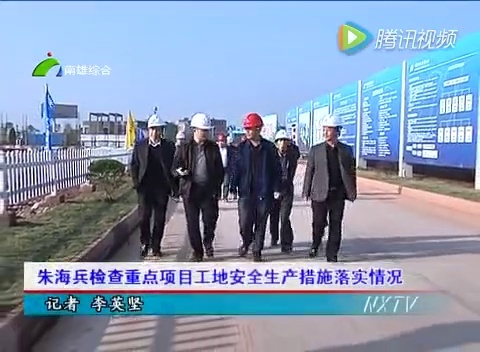red: (243, 111, 263, 140)
white: (188, 110, 212, 140), (321, 114, 343, 142), (144, 113, 165, 142), (272, 129, 292, 152)
